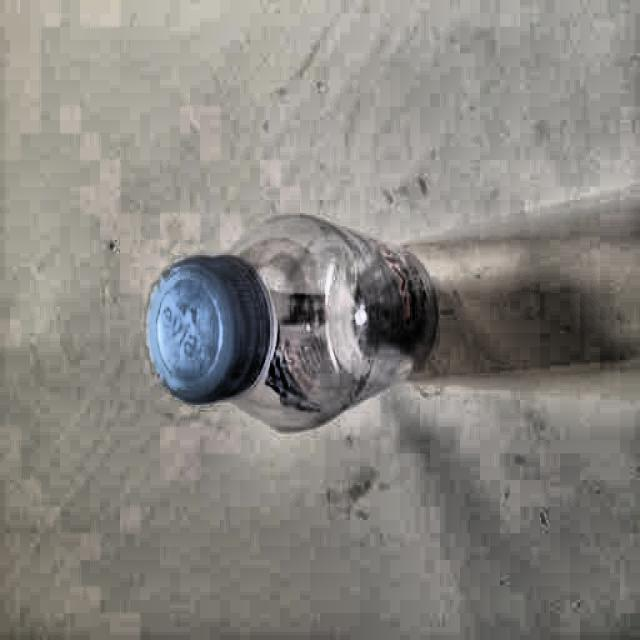plastic: (149, 216, 436, 440)
